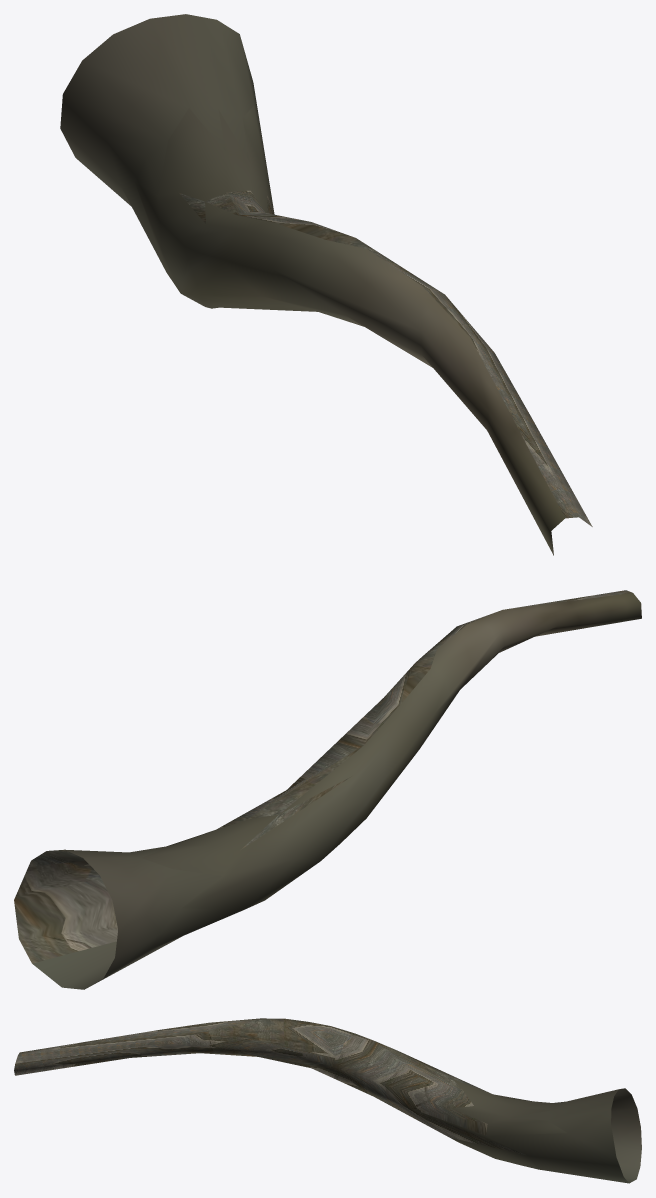
The model's file is shofar.glb.
3 renders of one model, top to bottom at view 1: azimuth 30°, elevation 25°; view 2: azimuth 150°, elevation 25°; view 3: azimuth 270°, elevation 25°, orthographic. The views are drawn at different scales.
Visible parts, largest first — view 1: shofar; view 2: shofar; view 3: shofar.
Boxes of the visible parts, box(x1,y1,x2,y2) form: shofar: box(60, 14, 592, 555); shofar: box(14, 590, 641, 989); shofar: box(14, 1018, 641, 1183).
Bounding box in the file's own units: 9.48 × 7.41 × 34.68.
1 material, 1 textured.
